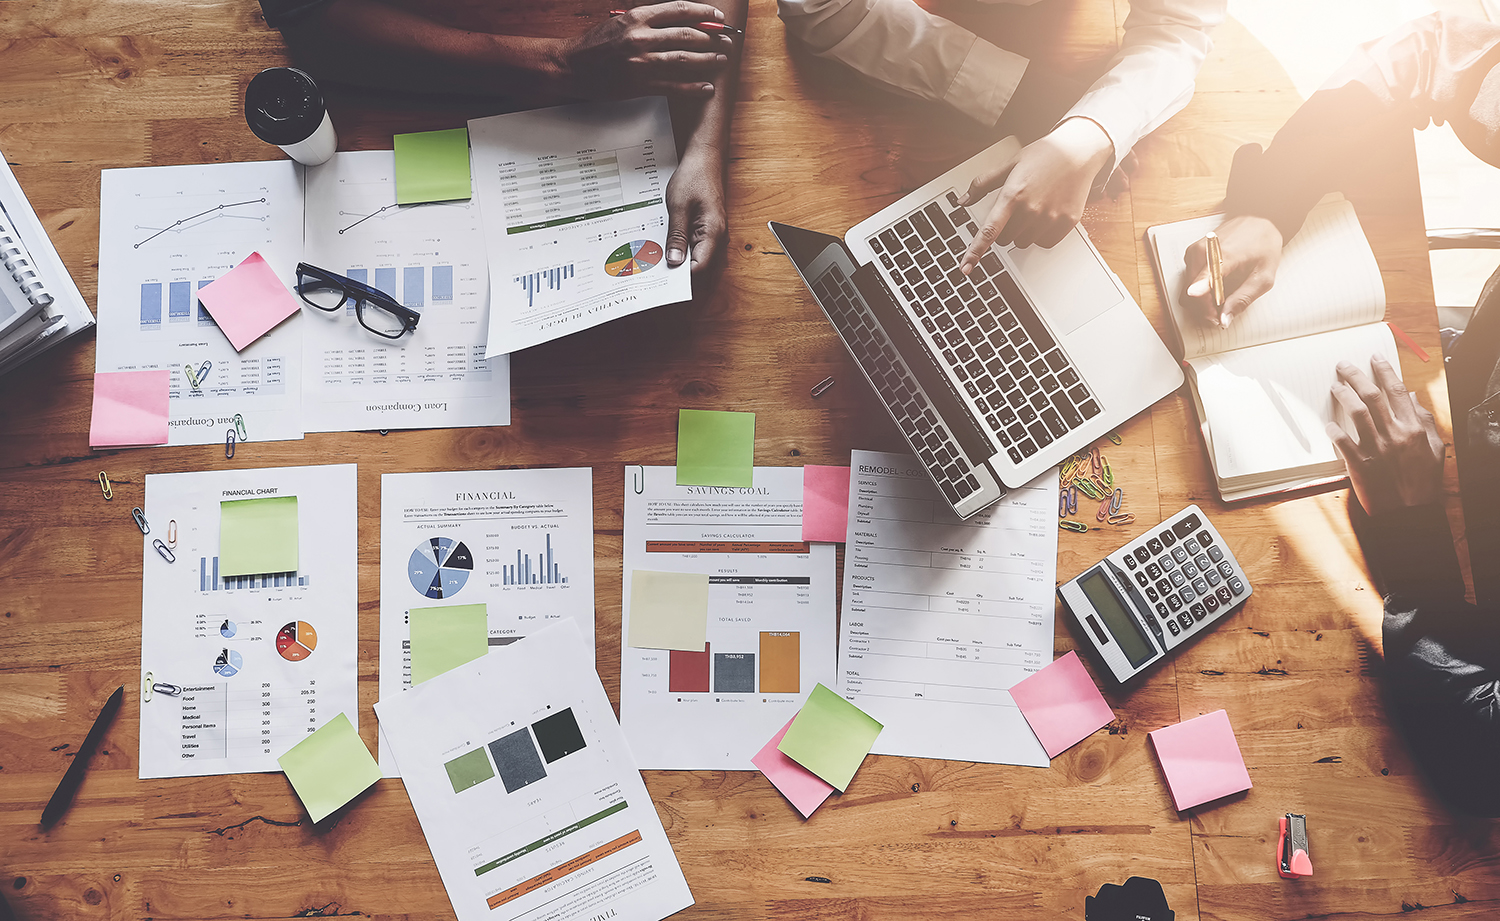Calculator: (1054, 505, 1260, 698)
